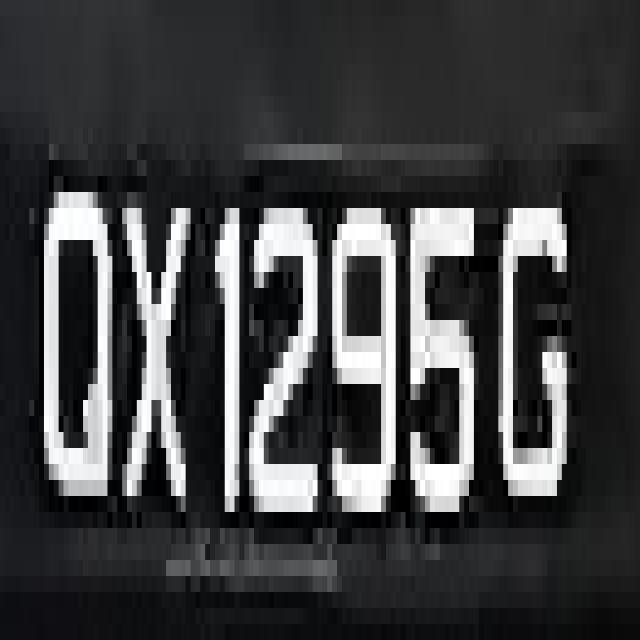1: (215, 144, 254, 544)
2: (245, 176, 322, 528)
5: (391, 144, 479, 544)
9: (337, 128, 401, 528)
G: (484, 128, 581, 544)
Q: (34, 144, 112, 576)
X: (117, 144, 191, 544)
